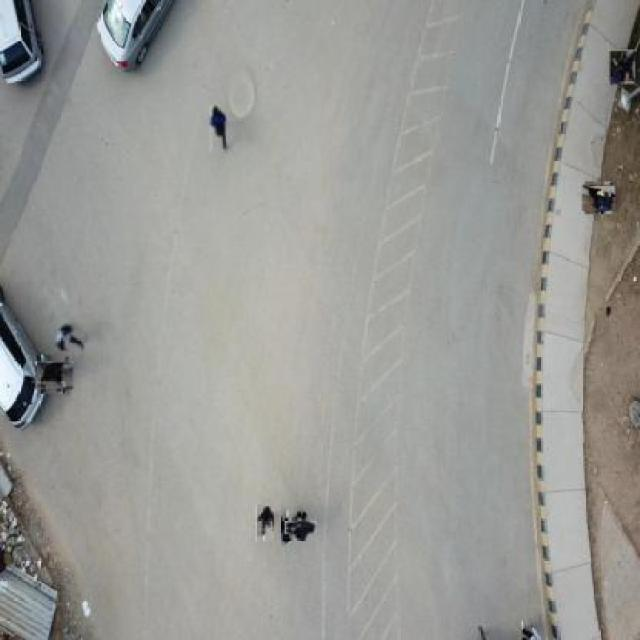Person: (37, 358, 72, 393), (583, 181, 615, 214), (609, 50, 636, 85), (210, 105, 227, 153), (56, 324, 84, 351), (256, 505, 275, 543), (289, 516, 314, 539), (280, 508, 294, 546)
